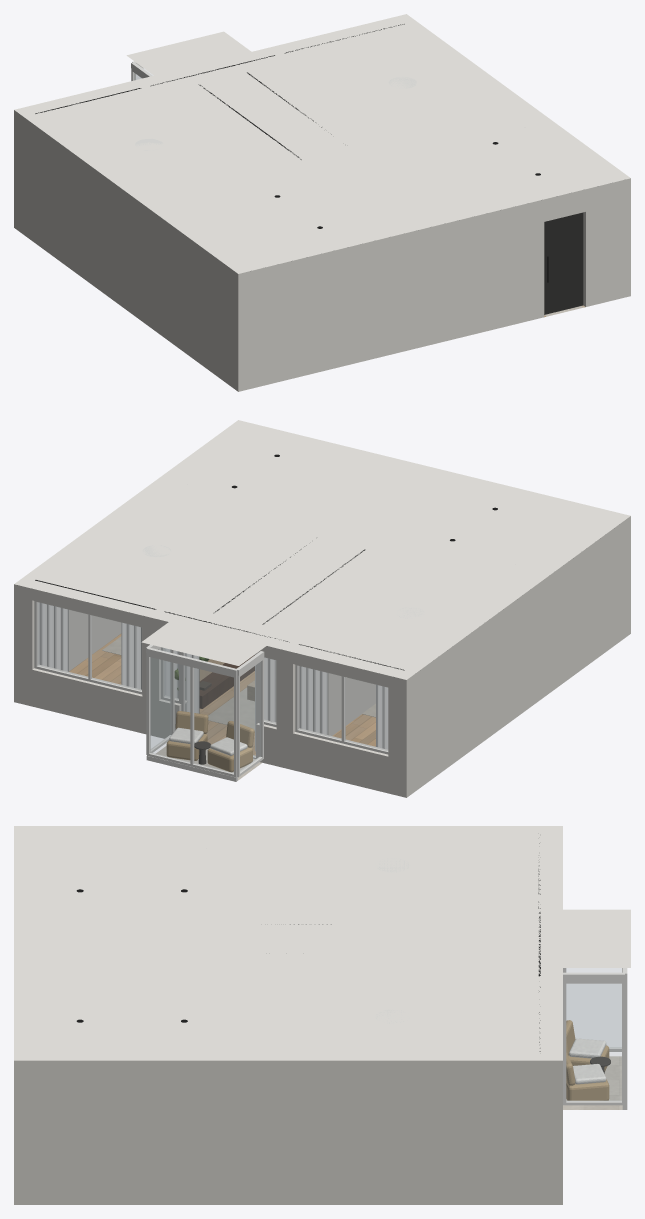
3 renders of one model, top to bottom at view 1: azimuth 30°, elevation 25°; view 2: azimuth 150°, elevation 25°; view 3: azimuth 270°, elevation 25°, orthographic. The views are drawn at different scales.
Visible parts, largest first — view 1: Ceiling, Interior; view 2: Ceiling, Interior, Glass, Curtains; view 3: Ceiling, Interior, Glass.
Part boxes in pixels (x1,y1,x2,y2): Ceiling: (14,14,630,273); Interior: (14,61,630,391); Ceiling: (14,420,630,679); Interior: (14,516,630,797); Glass: (37,602,387,773); Curtains: (38,602,388,751); Ceiling: (14,826,630,1060); Interior: (14,968,627,1204); Glass: (566,968,621,1101).
Size of the model in its own units: 9.48 by 2.73 by 10.54.
Materials: 47 (18 with a texture image).
